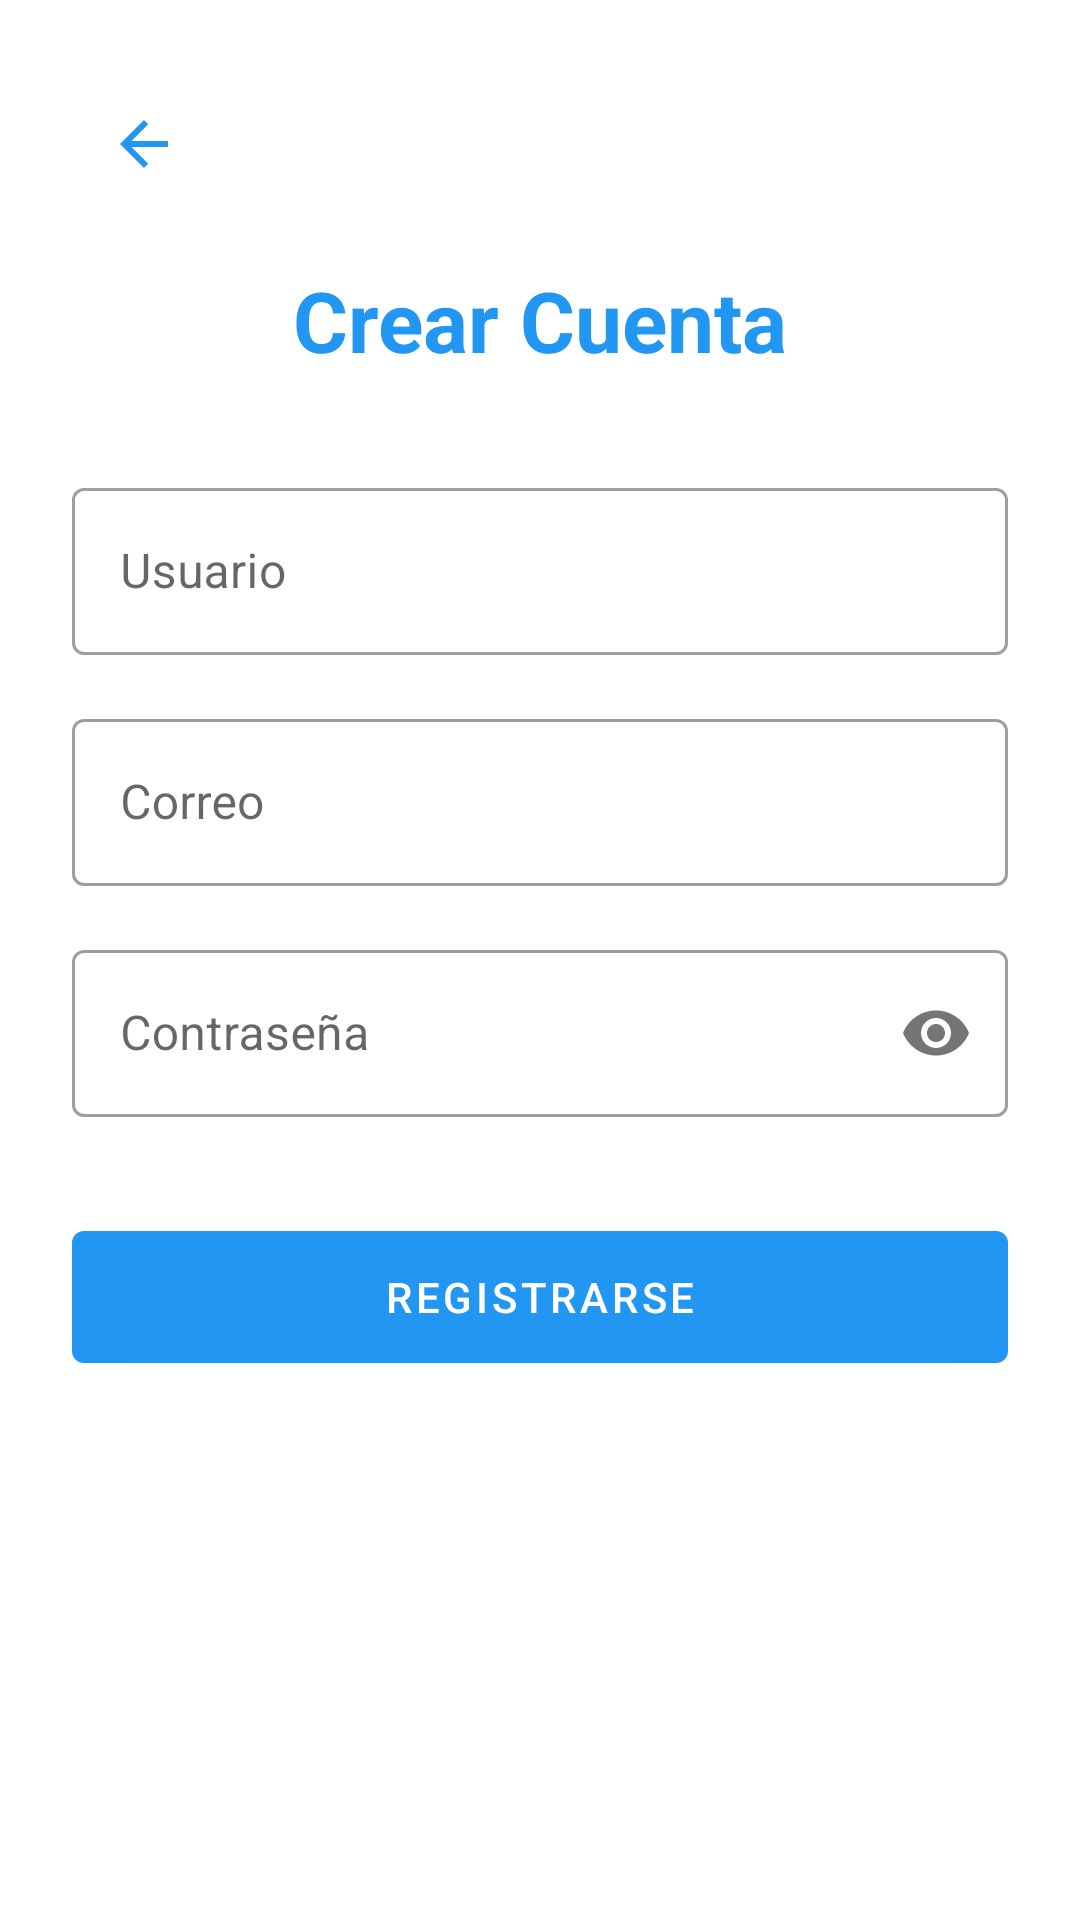

Point at icon controls on the screen. Image size 1080 × 1920, points as point (x, y).
Atrás: point (144, 144)
